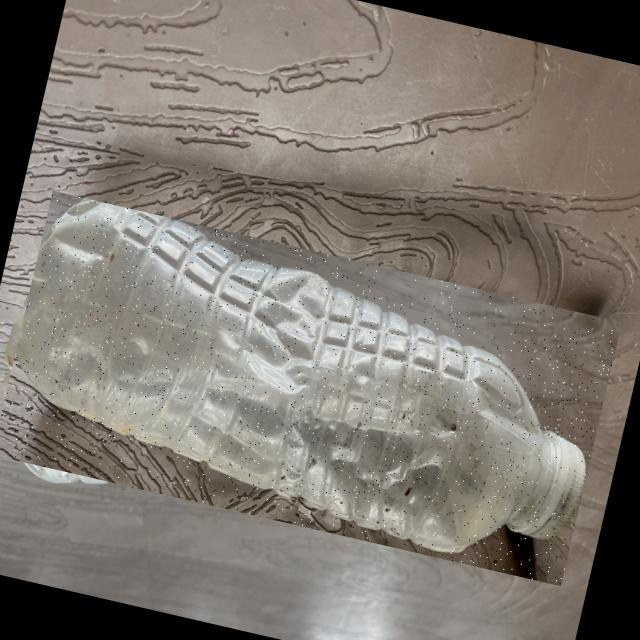REJECT: (0, 190, 621, 585)
